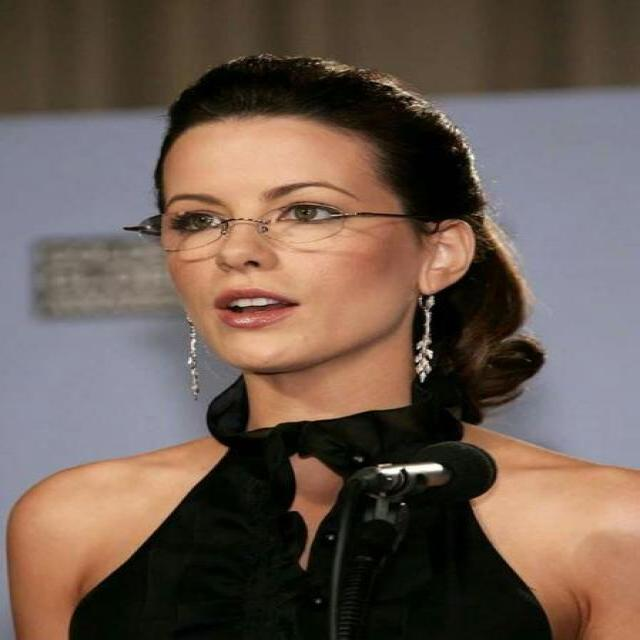glasses: (131, 202, 399, 252)
